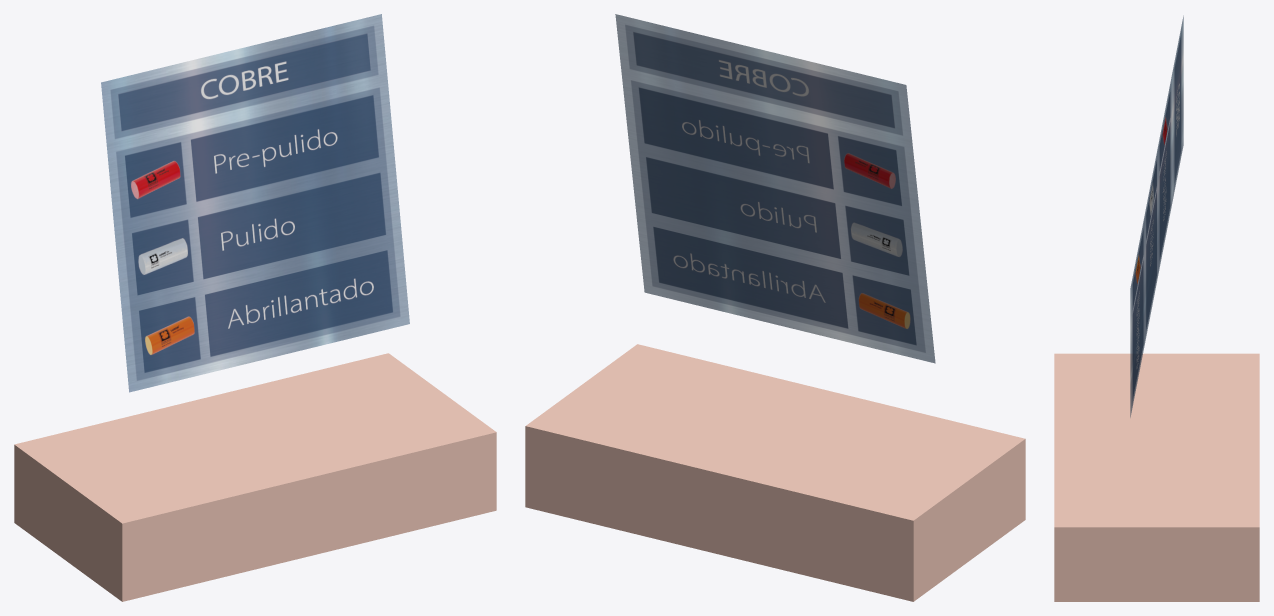
The model's file is cobre.glb.
3 views of the same model, side by side, from view 1: azimuth 30°, elevation 25°; view 2: azimuth 150°, elevation 25°; view 3: azimuth 270°, elevation 25° (orthographic). The views are drawn at different scales.
Parts seen in each view (by area): view 1: PNG_Flotante, Cobre_Block; view 2: Cobre_Block, PNG_Flotante; view 3: Cobre_Block, PNG_Flotante.
Boxes of the visible parts, bbox=[...] form: PNG_Flotante: bbox=[101, 14, 409, 392]; Cobre_Block: bbox=[14, 353, 496, 601]; Cobre_Block: bbox=[525, 344, 1025, 601]; PNG_Flotante: bbox=[615, 14, 935, 363]; Cobre_Block: bbox=[1054, 353, 1259, 601]; PNG_Flotante: bbox=[1130, 16, 1183, 417].
Bounding box in the file's own units: 0.1 × 0.1169 × 0.05.
Materials: 2 (1 with a texture image).
